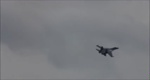maybay_muctieu: (95, 42, 118, 58)
